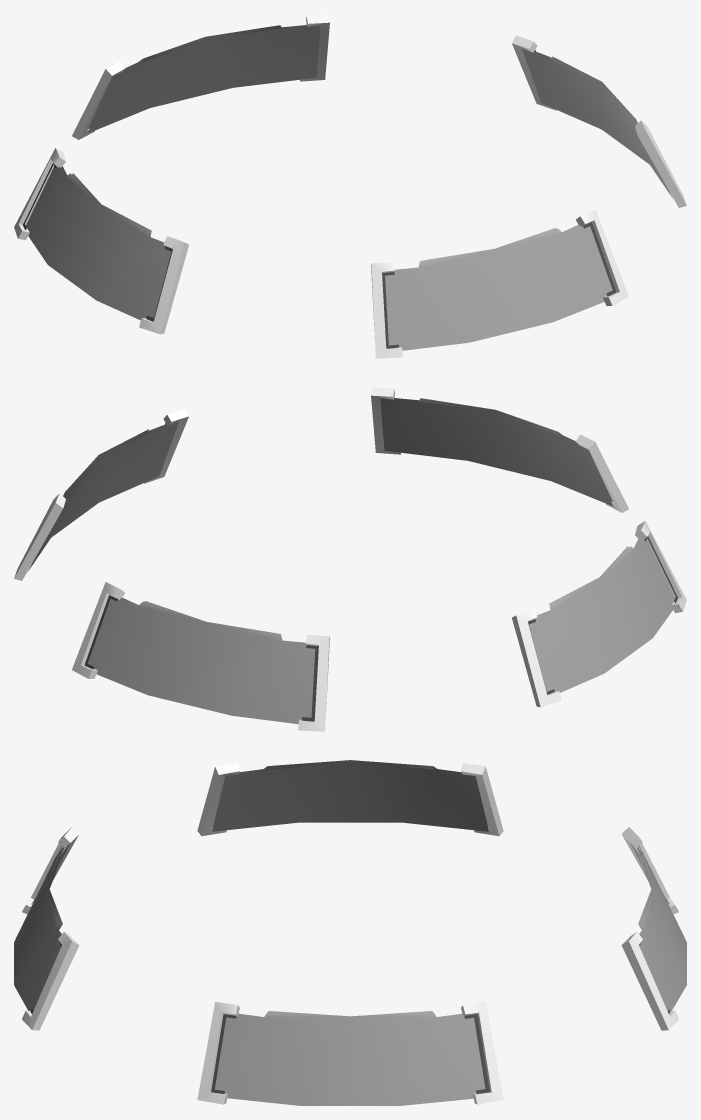
File: platform_screens.fbx
3 renders of one model, top to bottom at view 1: azimuth 30°, elevation 25°; view 2: azimuth 150°, elevation 25°; view 3: azimuth 270°, elevation 25°, orthographic. The views are drawn at different scales.
Visible parts, largest first — view 1: platform_screens; view 2: platform_screens; view 3: platform_screens.
Part boxes in pixels (box(x1,y1,x2,y2)): platform_screens: box(14, 14, 686, 358); platform_screens: box(14, 387, 686, 731); platform_screens: box(14, 760, 686, 1105).
Size of the model in its own units: 2.54 by 0.3494 by 2.54.
